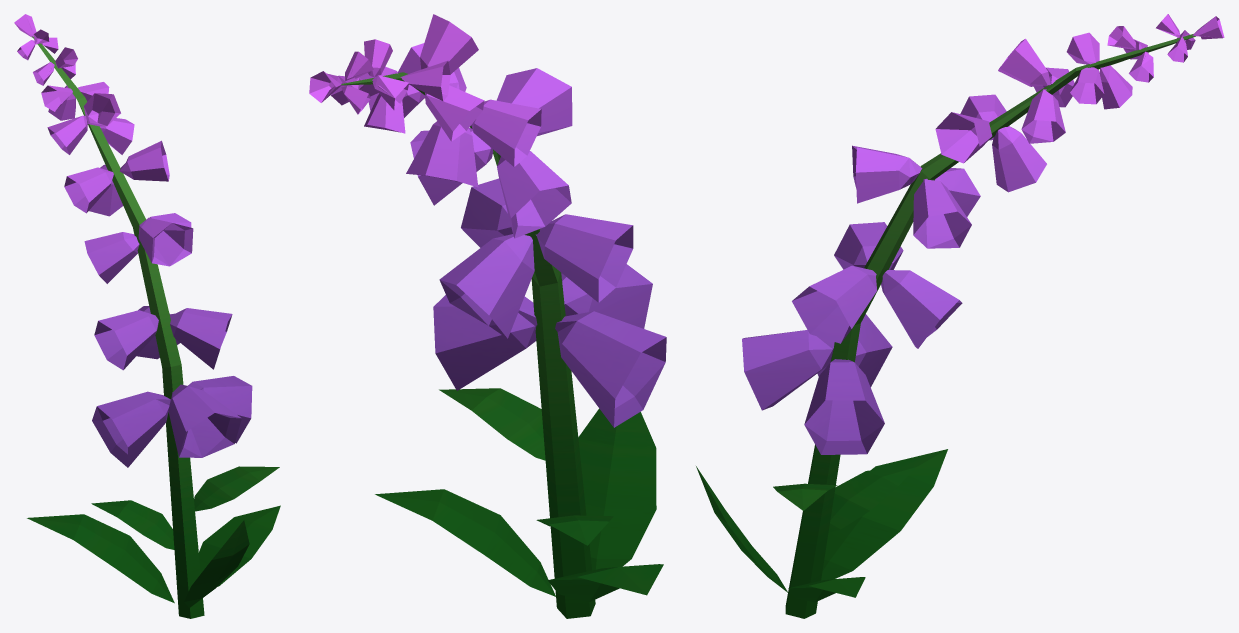
Rendered from Flower_Foxglove_02.fbx.
3 views of the same model, side by side, from view 1: azimuth 30°, elevation 25°; view 2: azimuth 150°, elevation 25°; view 3: azimuth 270°, elevation 25° (orthographic). The views are drawn at different scales.
Visible parts, largest first — view 1: Flower_Foxglove_02; view 2: Flower_Foxglove_02; view 3: Flower_Foxglove_02.
Part boxes in pixels (left/top/right/bottom): Flower_Foxglove_02: left=14, top=14, right=280, bottom=618; Flower_Foxglove_02: left=309, top=14, right=666, bottom=618; Flower_Foxglove_02: left=696, top=14, right=1224, bottom=618.
Size of the model in its own units: 28.45 by 59.95 by 48.09.
